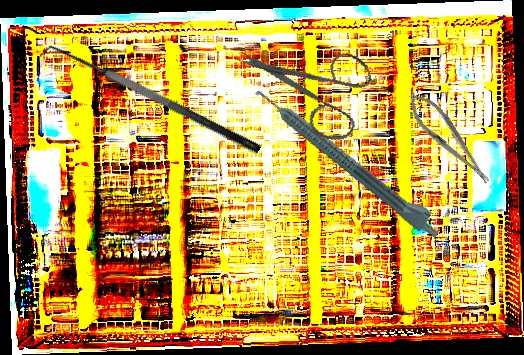Handpiece: (252, 76, 448, 243)
Iris Scissors: (233, 17, 386, 162)
Needle Holder: (400, 85, 498, 192)
Spatula Surgical: (37, 32, 263, 172)
